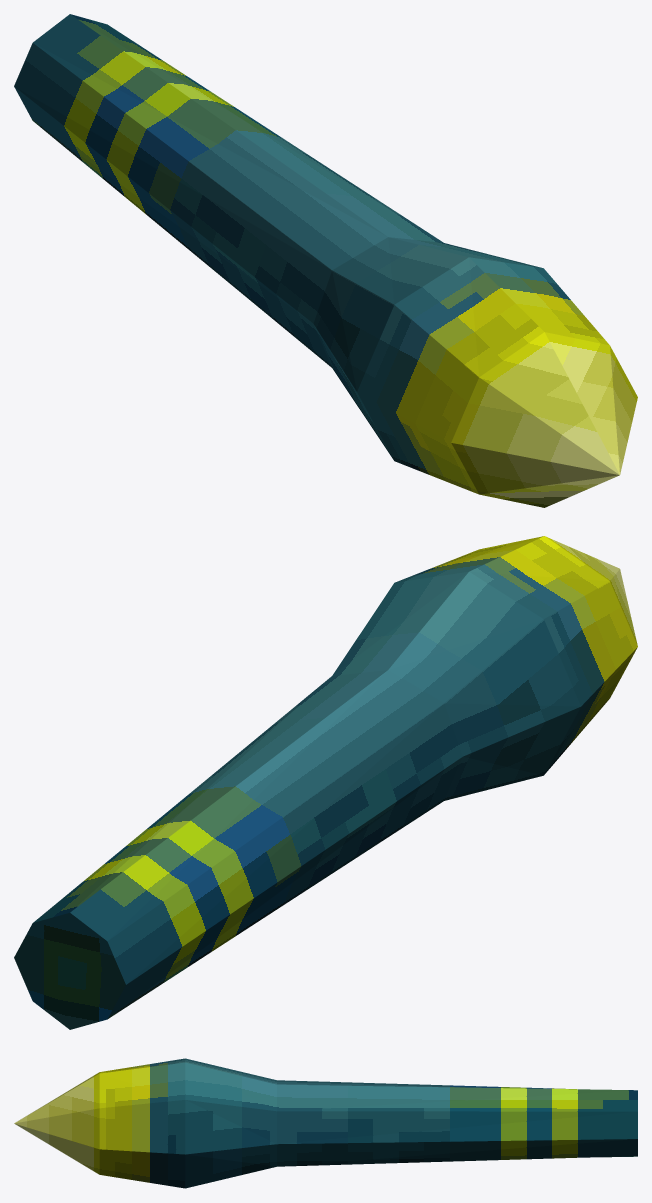
Rendered from X_rocket.obj.
3 views of the same model, one above another, from view 1: azimuth 30°, elevation 25°; view 2: azimuth 150°, elevation 25°; view 3: azimuth 270°, elevation 25° (orthographic). The views are drawn at different scales.
Parts seen in each view (by area): view 1: Node 0; view 2: Node 0; view 3: Node 0.
Boxes of the visible parts, <box> form: Node 0: <box>14,14,637,507</box>; Node 0: <box>14,536,637,1029</box>; Node 0: <box>14,1058,637,1188</box>.
Size of the model in its own units: 0.24 by 0.22 by 1.02.
1 material, 1 textured.
